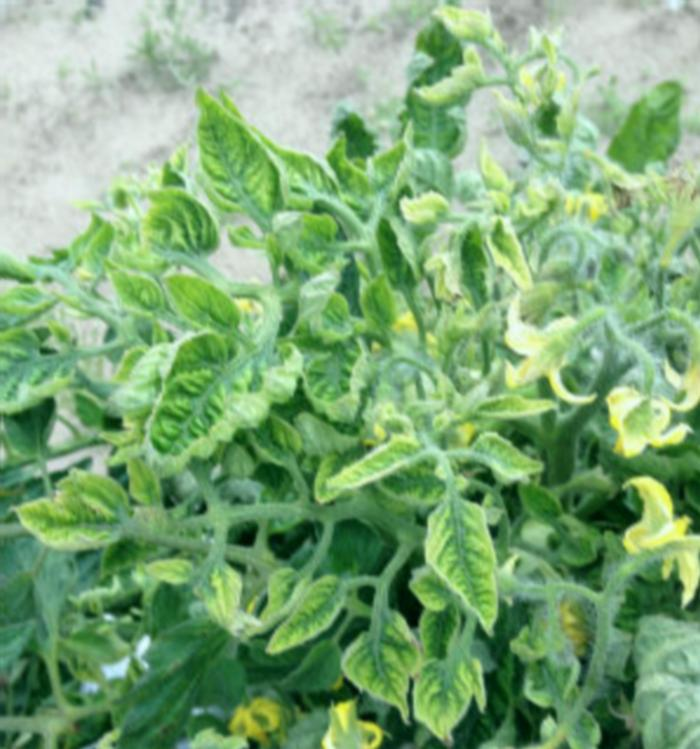Tomato leaf yellow virus: (128, 325, 309, 489), (169, 80, 282, 217), (1, 467, 140, 574), (412, 488, 516, 631), (404, 638, 523, 744), (280, 337, 391, 427), (142, 266, 254, 355), (258, 571, 352, 661), (340, 613, 425, 709), (496, 323, 610, 390)
